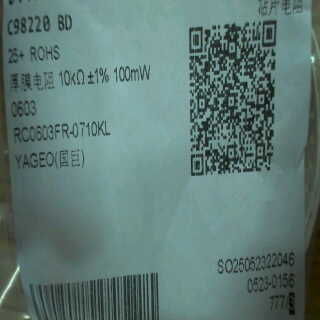10kR: (57, 64, 90, 92)
